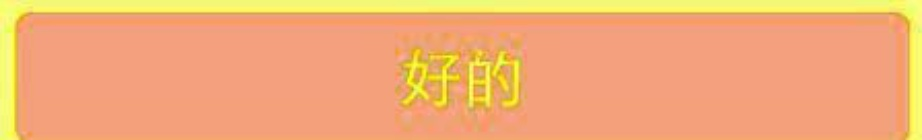Button: (1, 1, 921, 139)
